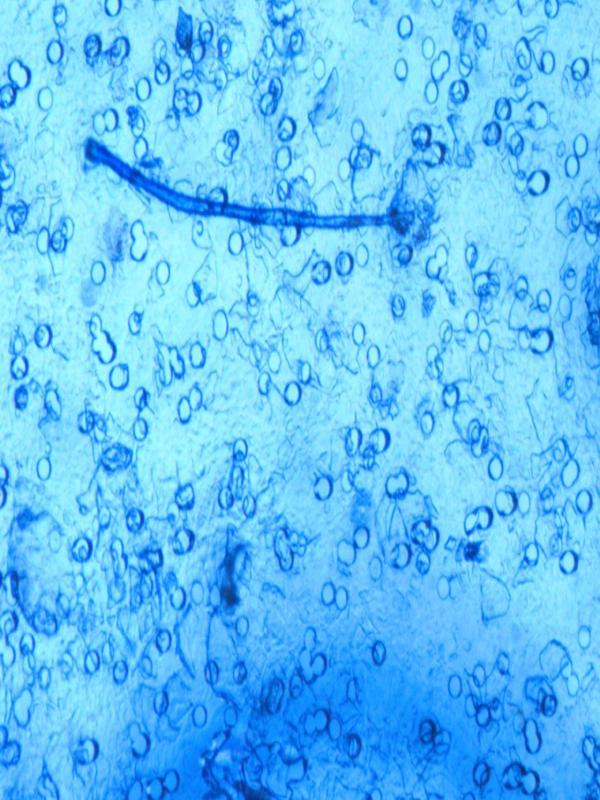microplastic: (0, 0, 599, 799), (82, 131, 438, 249)
